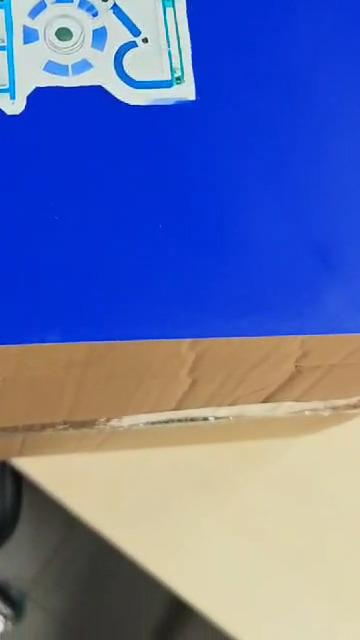B_R1: (0, 0, 343, 169)
